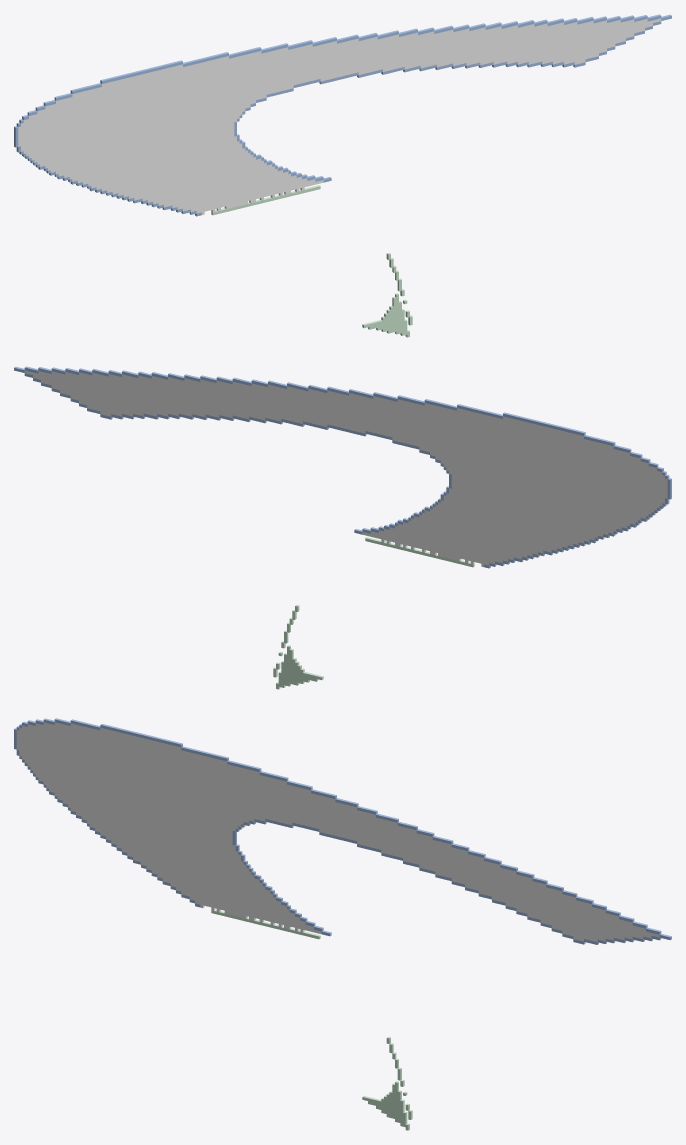
Rendered from Fight_023_3_05_fx.obj.
3 renders of one model, top to bottom at view 1: azimuth 30°, elevation 25°; view 2: azimuth 150°, elevation 25°; view 3: azimuth 330°, elevation 25°, orthographic.
Bounding box in the file's own units: 24.3 × 11.7 × 0.1.
